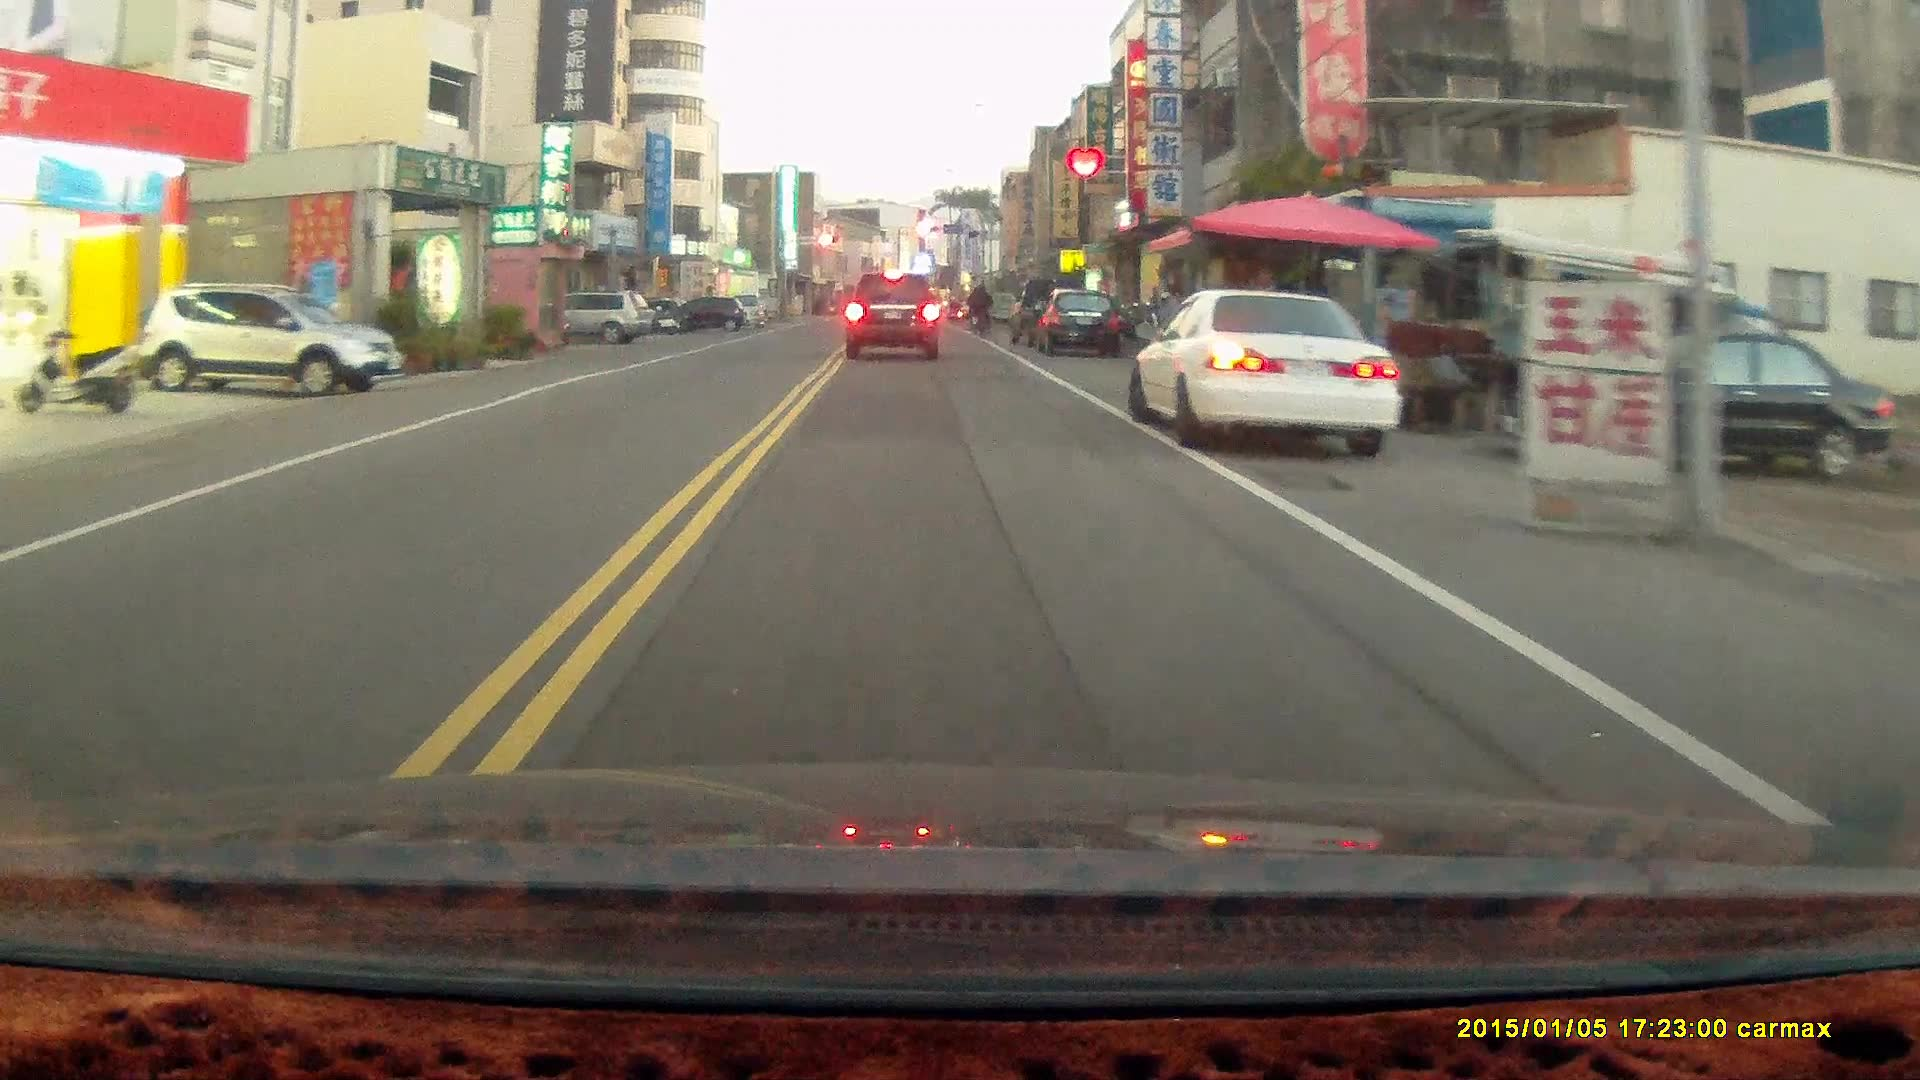rider: (967, 279, 994, 339)
vehicle: (1495, 320, 1901, 482), (1134, 286, 1402, 457), (145, 283, 395, 399), (845, 269, 943, 363), (1032, 290, 1126, 356), (556, 290, 657, 345)
